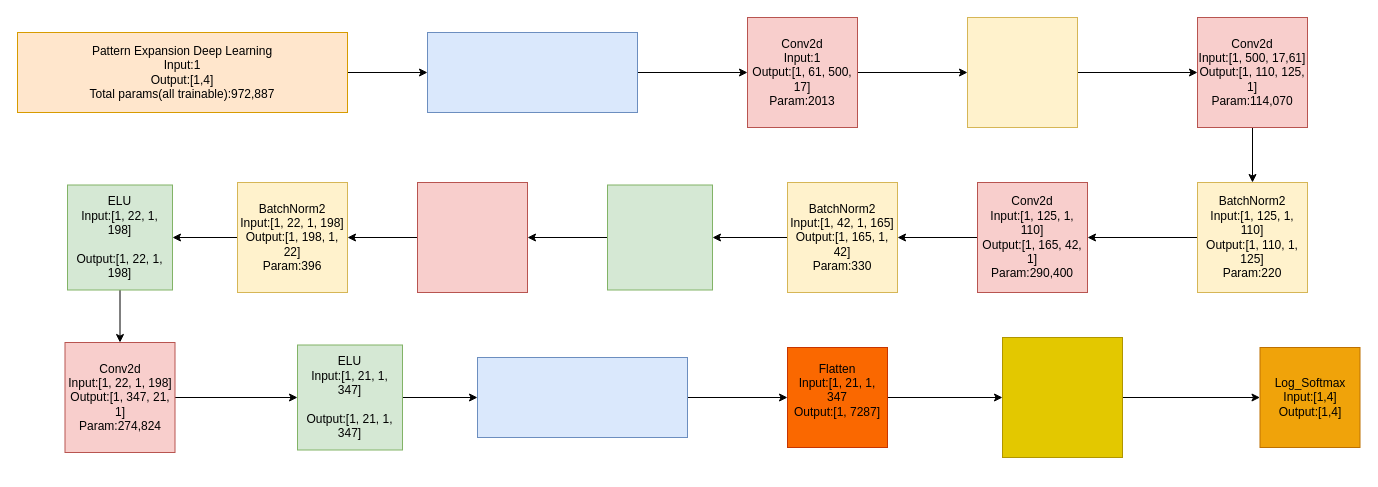
The diagram is 1378 pixels wide and 487 high, and some of its shapes have lost their labels. The centre of each missing label's shape, as x and y in pixels:
BatchNorm2 Input:[1, 500, 17, 61] Output:[1, 61, 17, 500] Param:122: the point at 1022,72
Conv2d Input: [1, 42, 1, 165] Output:[1, 198, 22, 1] Param:261,360: the point at 472,237
ELU Input: [1, 42, 1, 165] Output: [1, 42, 1, 165]: the point at 659,237
Linear Input:[1, 7287] Output:[1,4] Parameters:29,152: the point at 1062,397
Sequential 1 Input:1 Out put:[1, 21, 1, 347]: the point at 532,72
Sequential 2 Input:[1, 21, 1, 347 ] Out put:[1,4]: the point at 582,397
